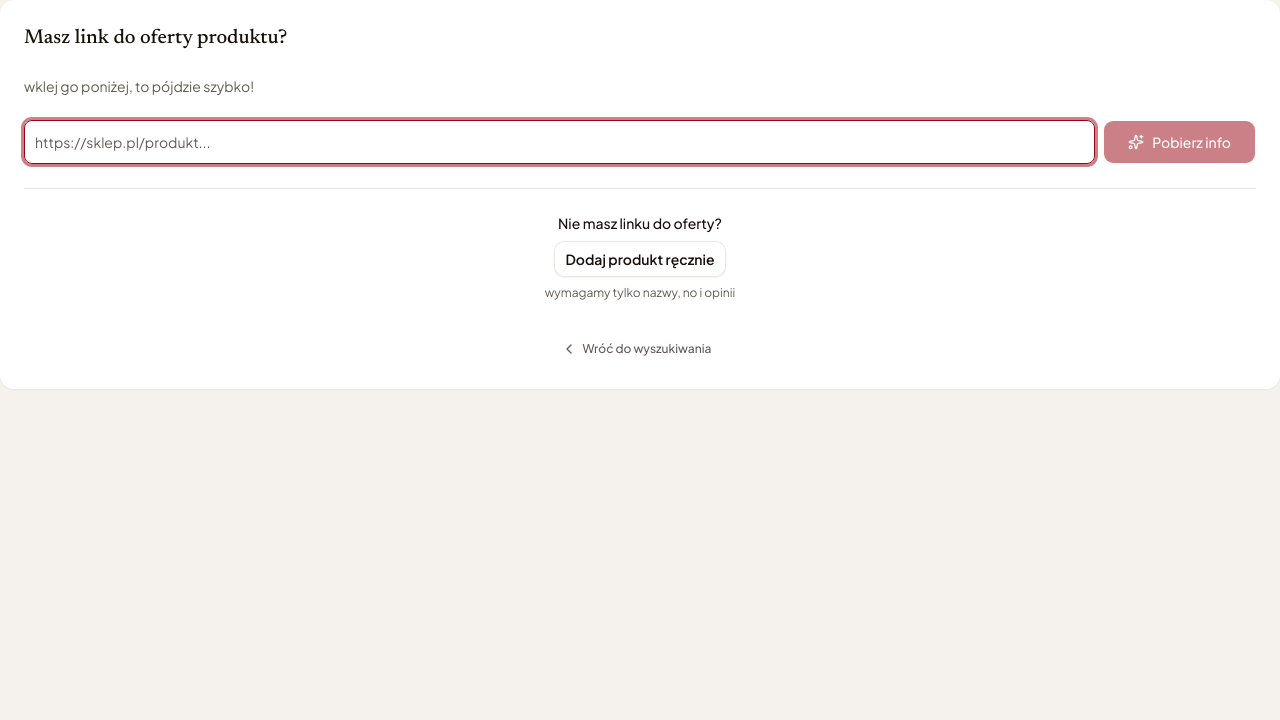
Test: CombinedProductReviewForm › Scraper Integration › handles scraping flow: fills data and displays success banner
Type "https://sklep.pl/item-123" into the field named "Link do oferty produktu" at (560, 142), box [24,120,1095,164]
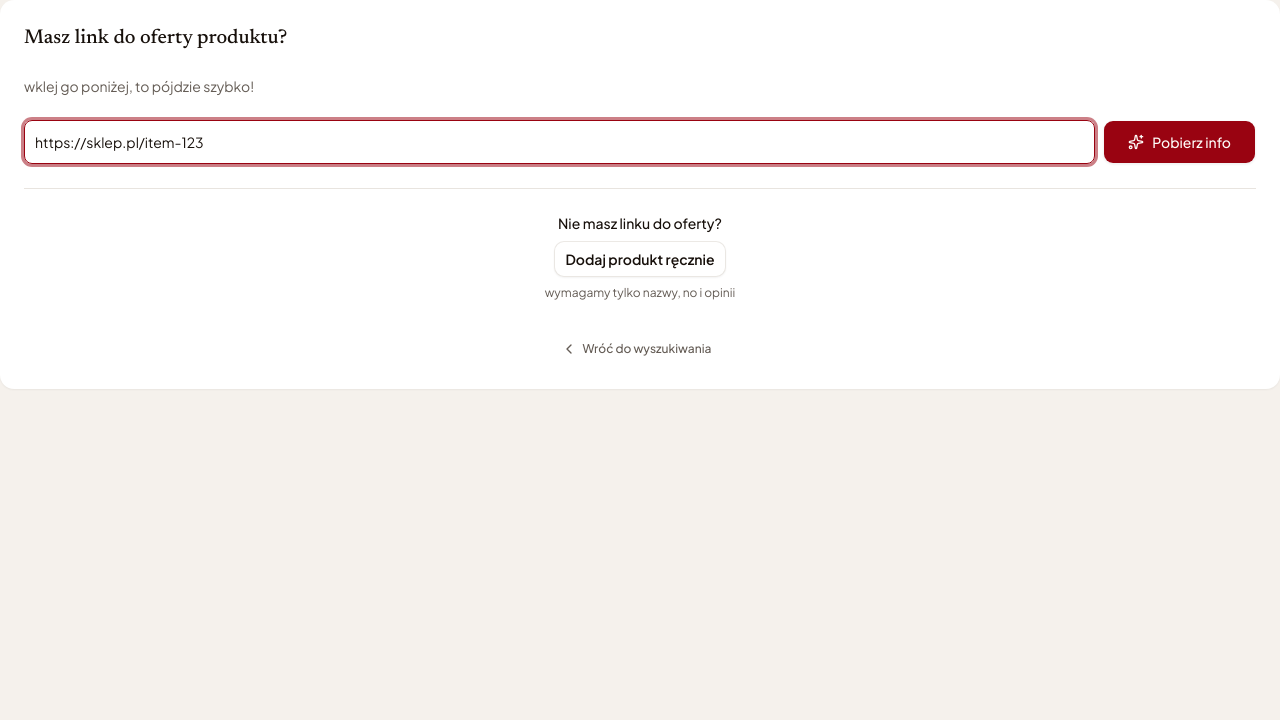
expect the button "Pobierz info" is enabled: met
Click the button "Pobierz info" at (1180, 142), box [1103,120,1256,164]
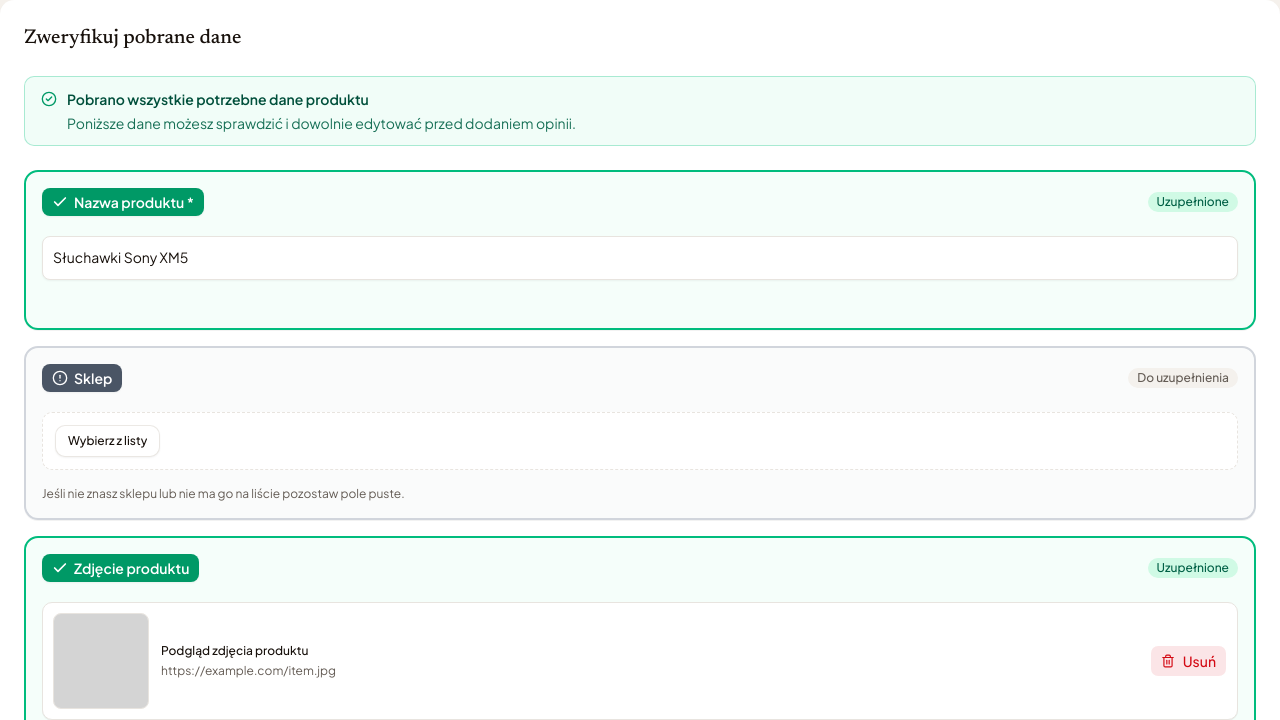
expect the text "Pobrano wszystkie potrzebne dane produktu" is shown: met, box [67,90,369,108]
expect the text box labelled "Nazwa produktu *" holds "Słuchawki Sony XM5": met, box [42,236,1238,280]
expect the text "Podgląd zdjęcia produktu" is shown: met, box [161,643,308,658]
